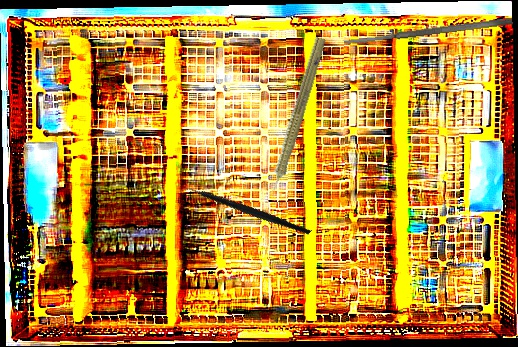Chopper: (177, 148, 312, 276)
Handpiece: (259, 34, 329, 206)
Spatula Surgical: (343, 16, 513, 47)
